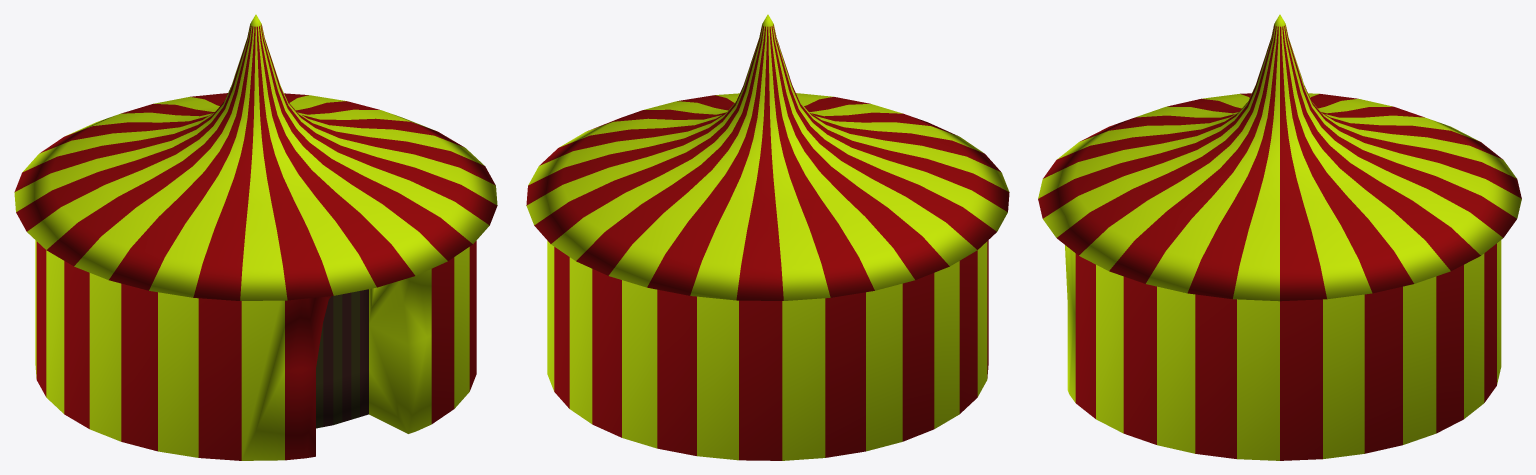
The model's file is Tent.fbx.
The picture shows the model from 3 angles, left to right: view 1: azimuth 30°, elevation 25°; view 2: azimuth 150°, elevation 25°; view 3: azimuth 270°, elevation 25°; orthographic projection.
Parts seen in each view (by area): view 1: Circle; view 2: Circle; view 3: Circle.
Boxes of the visible parts, bbox=[...] form: Circle: bbox=[14, 14, 497, 460]; Circle: bbox=[526, 14, 1009, 460]; Circle: bbox=[1038, 14, 1521, 460].
Size of the model in its own units: 417 by 337 by 417.
